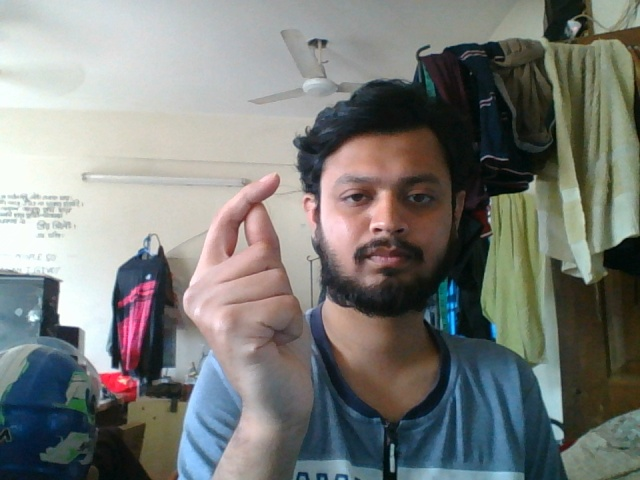tha: (172, 164, 329, 446)
